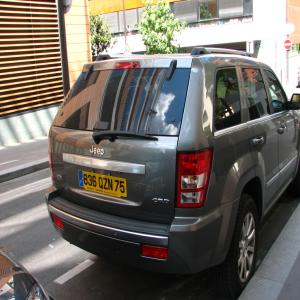Vehicle-registration-plate: (80, 171, 128, 200)
